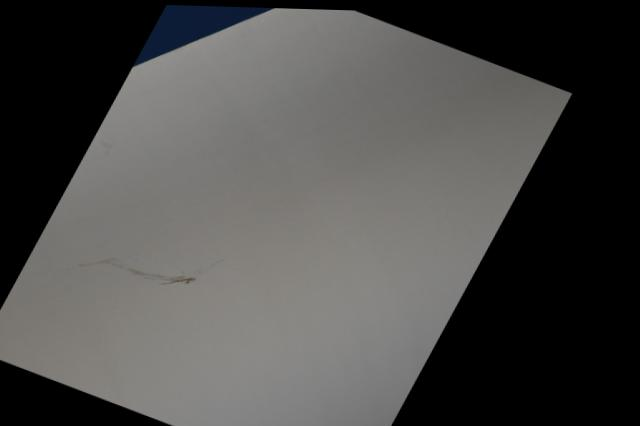damage: (99, 240, 213, 299)
